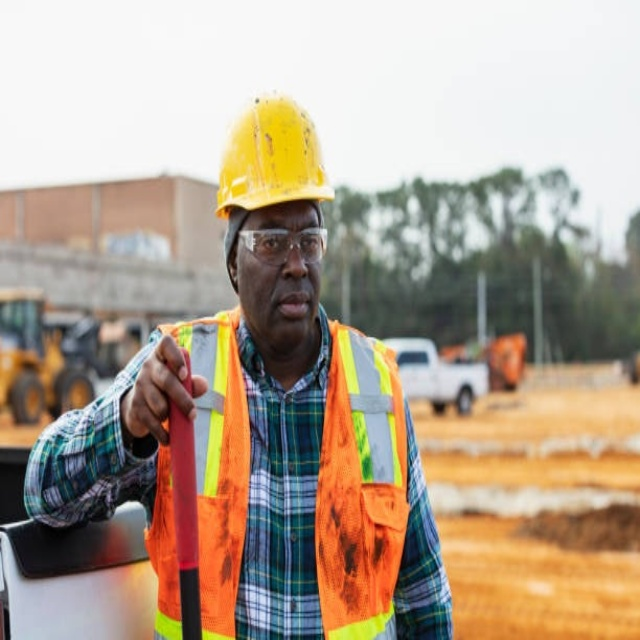Gafas: (236, 224, 330, 268)
Sin_guantes: (127, 331, 206, 445)
Sin_mascara: (266, 282, 318, 334)
